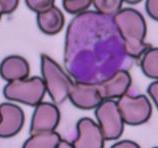E: (63, 11, 132, 84)
